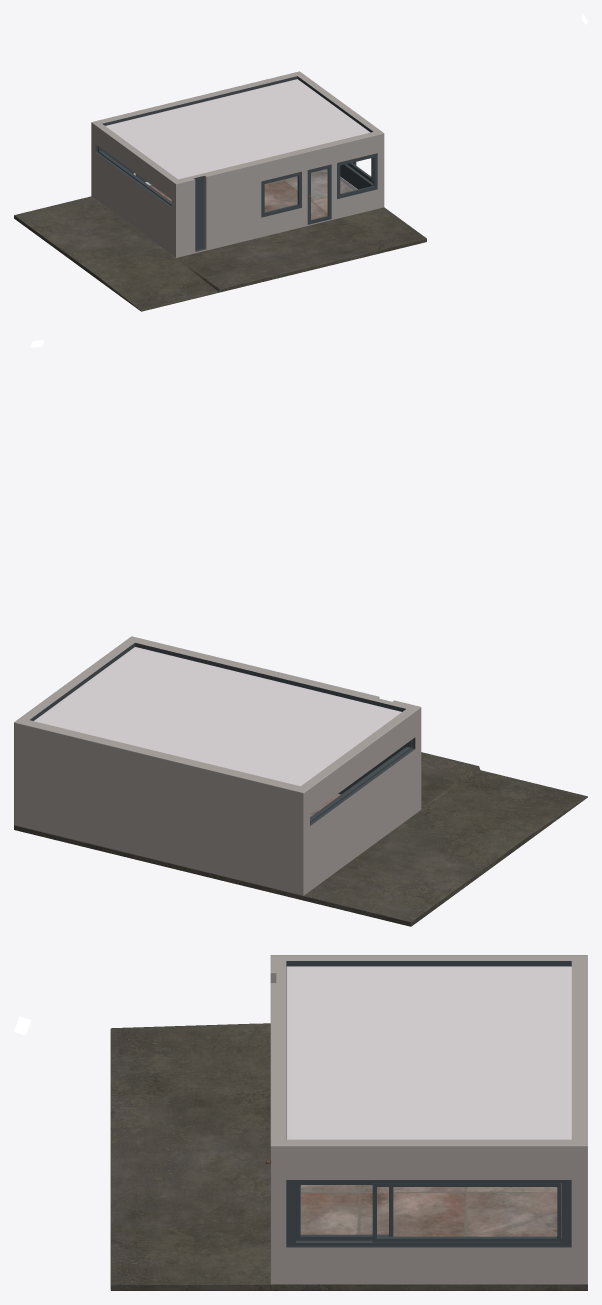
Rendered from office.gltf.
3 renders of one model, top to bottom at view 1: azimuth 30°, elevation 25°; view 2: azimuth 150°, elevation 25°; view 3: azimuth 270°, elevation 25°, orthographic. The views are drawn at different scales.
Visible parts, largest first — view 1: Floor.003, Cube.001, Cube.248, Cube.003, Cube.002, Cube.247, Door.015; view 2: Cube.001, Cube.248, Floor.003, Cube.002; view 3: Cube.248, Floor.003, Cube.001, Cube.003, WindowFrame.005, Window.R.006, Cube.002, Window.R.009.
Boxes of the visible parts, x1,y1,x2,y2 form: Floor.003: (14, 196, 426, 311); Cube.001: (91, 71, 384, 257); Cube.248: (105, 79, 370, 179); Cube.003: (149, 169, 353, 224); Cube.002: (95, 76, 373, 207); Cube.247: (194, 176, 205, 251); Door.015: (308, 164, 331, 224); Cube.001: (14, 636, 421, 895); Cube.248: (34, 647, 401, 786); Floor.003: (14, 752, 587, 926); Cube.002: (30, 643, 415, 825); Cube.248: (286, 966, 571, 1139); Floor.003: (110, 1023, 587, 1290); Cube.001: (270, 955, 587, 1284); Cube.003: (300, 1183, 561, 1238); WindowFrame.005: (286, 1180, 571, 1246); Window.R.006: (372, 1183, 561, 1242); Cube.002: (286, 961, 571, 1247); Window.R.009: (296, 1183, 393, 1240).
Size of what is drawn, in the model's own units: 52.97 by 25.1 by 33.14.
Materials: 13 (5 with a texture image).
